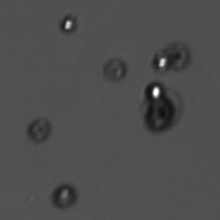Dead Cell: (140, 99, 184, 133), (99, 57, 130, 83), (25, 117, 56, 143), (169, 41, 191, 71)
Living Cell: (49, 182, 80, 208), (58, 13, 81, 35), (147, 51, 170, 73), (144, 80, 167, 102)
